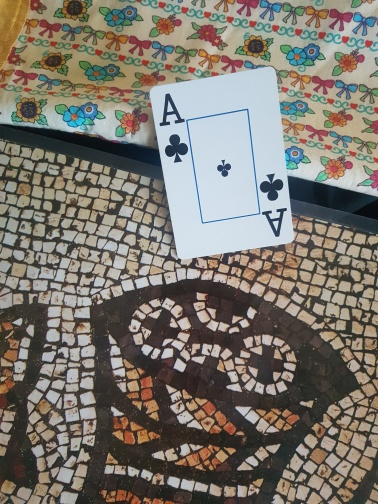ace: (152, 67, 296, 261)
